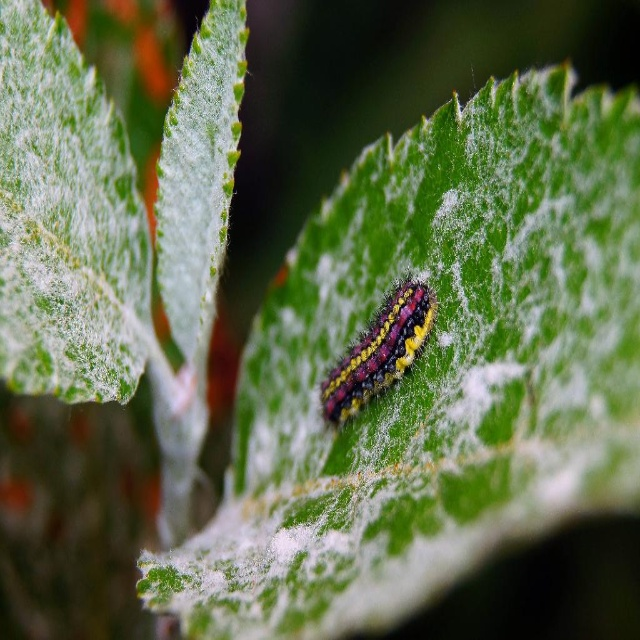Caterpillar: (316, 270, 445, 436)
